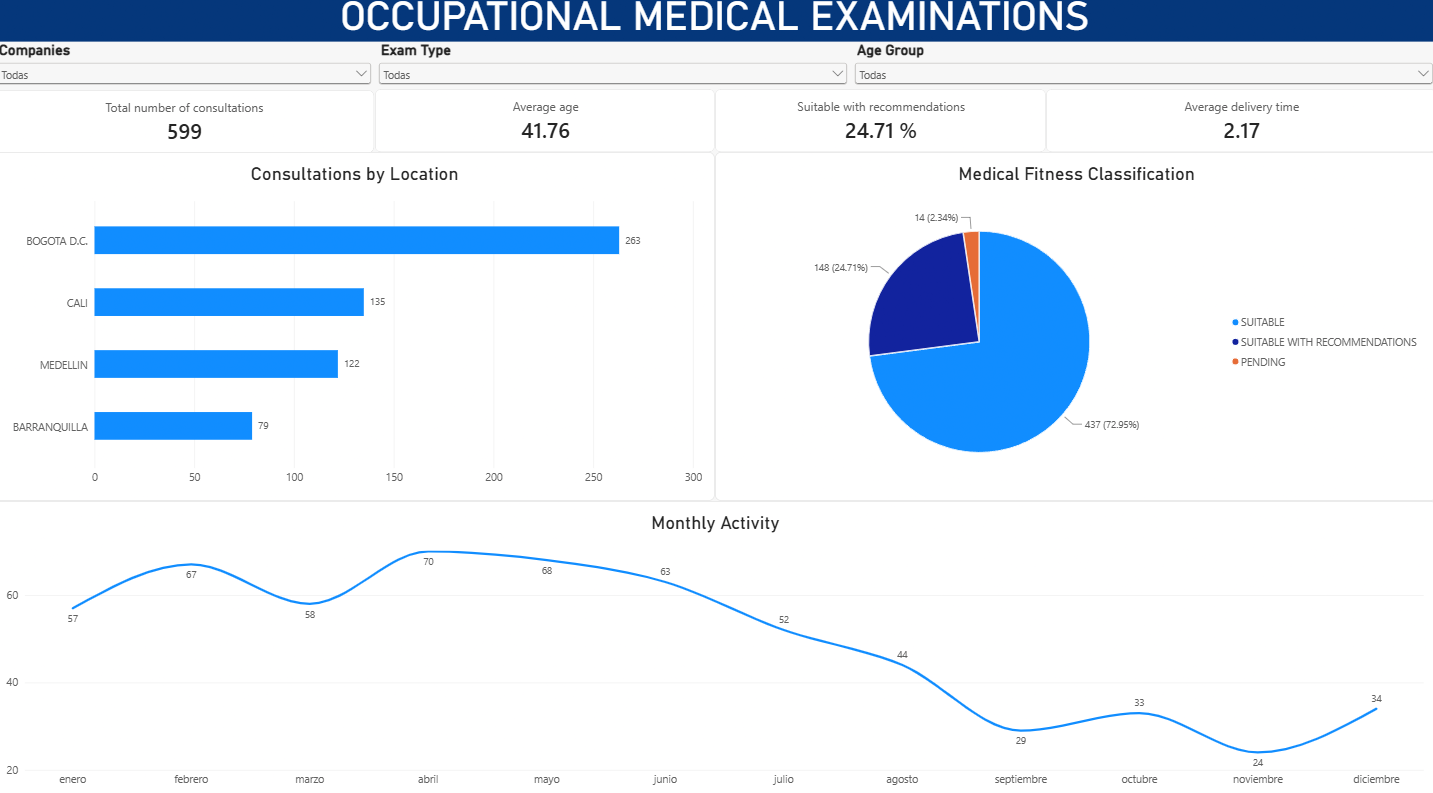

The dashboard page shown, as its layout file describes it:
{"tool":"powerbi","page":{"name":"Dashboard_PowerBI","canvas":[1920,1080],"ordinal":0},"visuals":[{"type":"cardVisual","fields":{"Data":["BASE_LIMPIA.Total de atenciones"]},"box":[0,130.3,507.7,84.6],"z":0},{"type":"cardVisual","fields":{"Data":["BASE_LIMPIA.Edad promedio"]},"box":[507.7,128.4,452.3,84.6],"z":1000},{"type":"cardVisual","fields":{"Data":["BASE_LIMPIA.% Apto con recomendaciones"]},"box":[960,128.4,440.6,84.6],"z":2000},{"type":"cardVisual","fields":{"Data":["BASE_LIMPIA.Tiempo promedio de entrega"]},"box":[1400.6,128.4,519.4,84.6],"z":3000},{"type":"barChart","title":"Consultations by Location","fields":{"Category":["BASE_LIMPIA.Sede"],"Y":["BASE_LIMPIA.Total de atenciones"]},"box":[0,213,960,464],"z":4000},{"type":"pieChart","title":"Medical Fitness Classification","fields":{"Category":["BASE_LIMPIA.Concepto_Aptitud"],"Y":["BASE_LIMPIA.Total de atenciones"]},"box":[960,213,960,464],"z":5000},{"type":"lineChart","title":"Monthly Activity","fields":{"Category":["BASE_LIMPIA.Fecha_Examen.Variación.Jerarquía de fechas.Mes"],"Y":["BASE_LIMPIA.Total de atenciones"]},"box":[0,677,1920,402.7],"z":6000},{"type":"slicer","fields":{"Values":["BASE_LIMPIA.Tipo_Examen"]},"box":[507.7,65.7,633.2,62.7],"z":7000},{"type":"slicer","fields":{"Values":["BASE_LIMPIA.Empresa"]},"box":[0,65.7,507.7,62.7],"z":8000},{"type":"slicer","fields":{"Values":["BASE_LIMPIA.Grupo_Edad"]},"box":[1140.9,65.7,779.1,62.7],"z":9000},{"type":"textbox","title":"OCCUPATIONAL MEDICAL EXAMINATIONS","box":[0,0,1920,65.7],"z":10000}]}

Visuals, with their boxes in screenshot pixels (x1, y1, x2, y2), scaled from the page's 1920x1080 canvas onto the 1433x793 screenshot:
cardVisual - BASE_LIMPIA.Total de atenciones: Rect(0, 96, 379, 158)
cardVisual - BASE_LIMPIA.Edad promedio: Rect(379, 94, 716, 156)
cardVisual - BASE_LIMPIA.% Apto con recomendaciones: Rect(716, 94, 1045, 156)
cardVisual - BASE_LIMPIA.Tiempo promedio de entrega: Rect(1045, 94, 1432, 156)
"Consultations by Location" barChart: Rect(0, 156, 716, 497)
"Medical Fitness Classification" pieChart: Rect(716, 156, 1432, 497)
"Monthly Activity" lineChart: Rect(0, 497, 1432, 792)
slicer - BASE_LIMPIA.Tipo_Examen: Rect(379, 48, 852, 94)
slicer - BASE_LIMPIA.Empresa: Rect(0, 48, 379, 94)
slicer - BASE_LIMPIA.Grupo_Edad: Rect(852, 48, 1432, 94)
"OCCUPATIONAL MEDICAL EXAMINATIONS" textbox: Rect(0, 0, 1432, 48)
